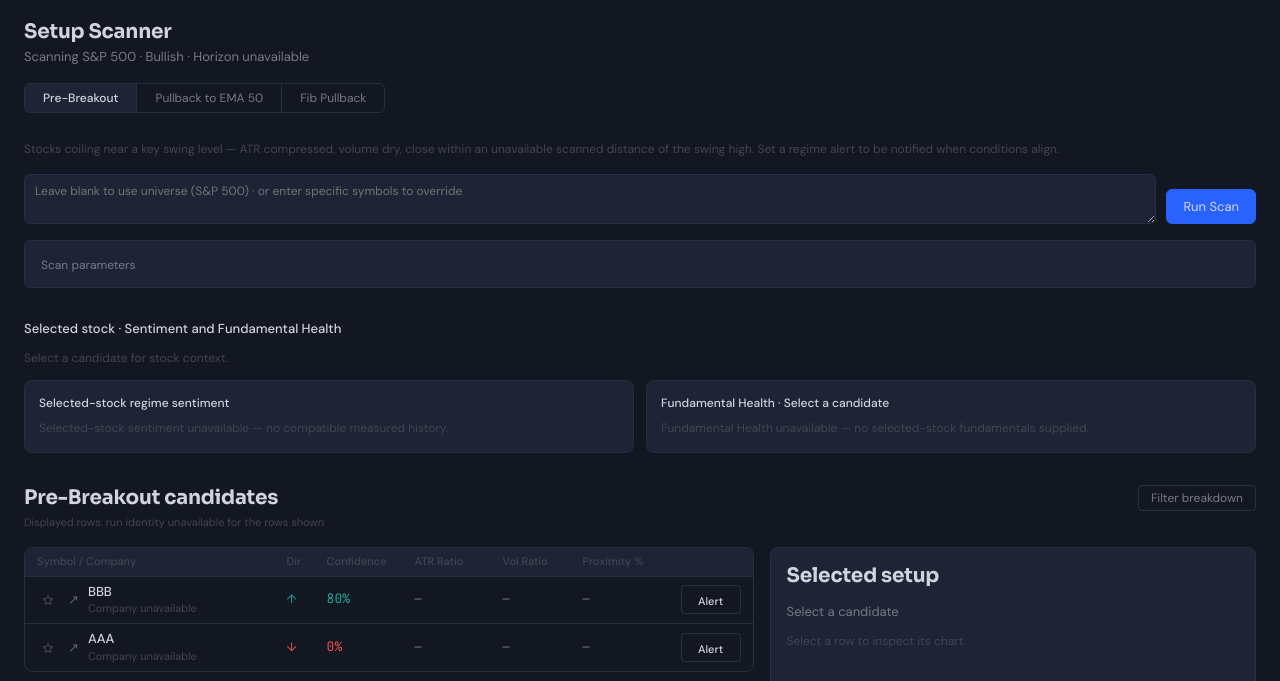
late response and stale fields are refused across symbol and result-array identity
Click the button with aria-label "Select AAA": (142, 656) [25,624,753,671]
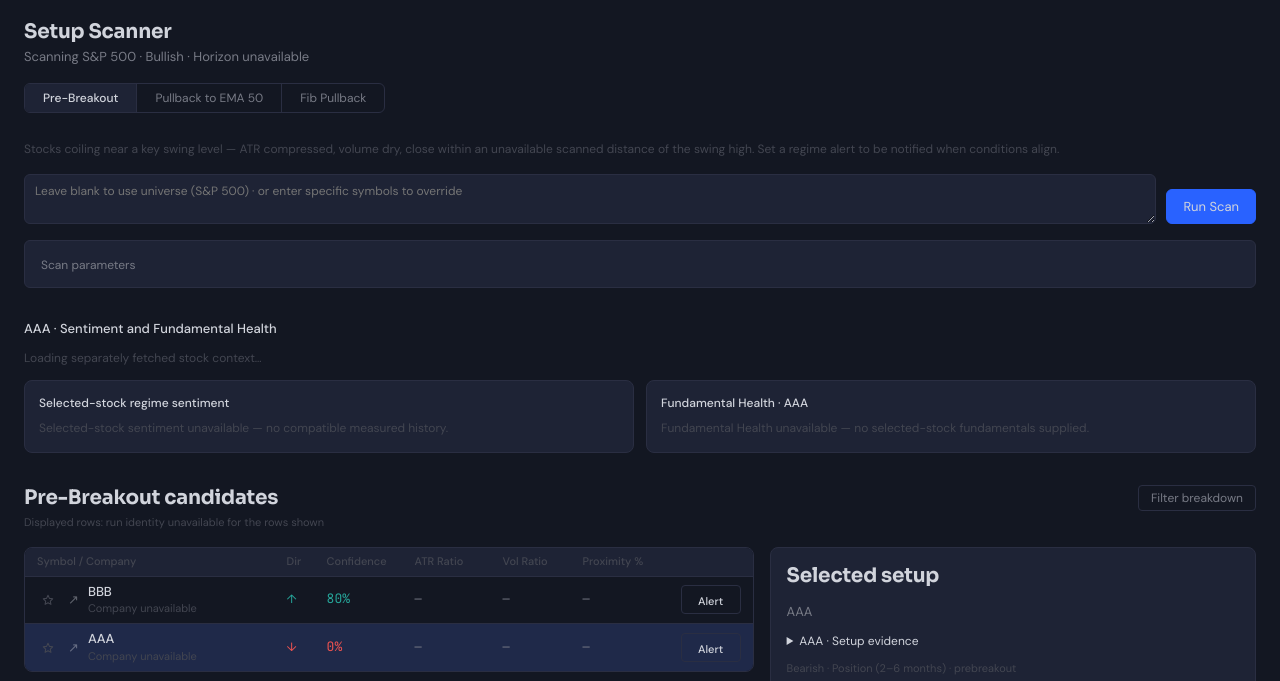
Click the button "↗ BBB Company unavailable ↑ 80% — — — Alert": (142, 608) [25,576,753,624]
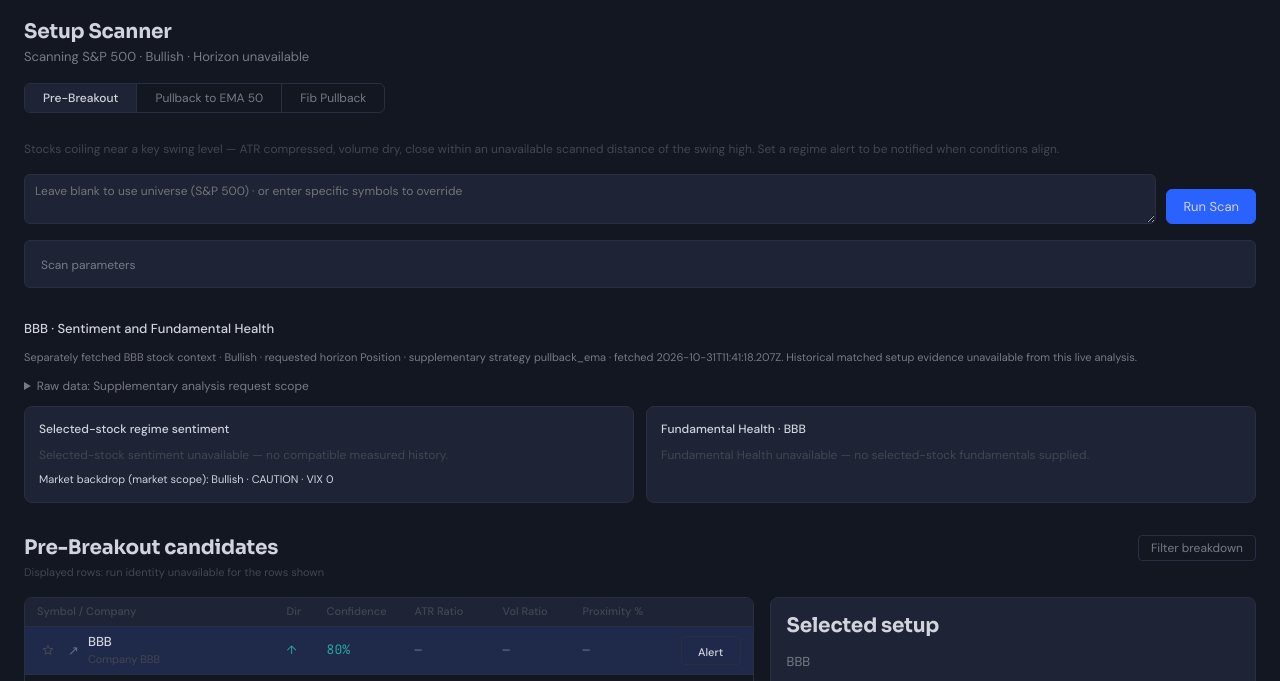
Check: the text "Company BBB" is shown, box [88,652,160,668]
